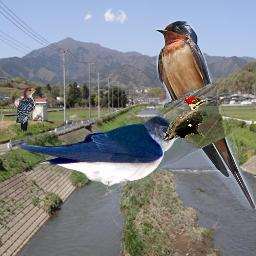Swallow: (156, 19, 256, 209), (17, 116, 186, 199)
Woodpecker: (163, 97, 213, 141), (16, 87, 42, 131)
